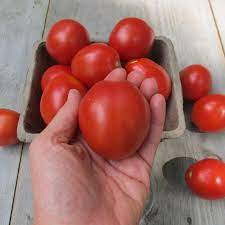tomato: (83, 78, 152, 154), (108, 19, 149, 62), (73, 39, 114, 78), (50, 20, 89, 61), (187, 150, 224, 193), (45, 77, 84, 117)
